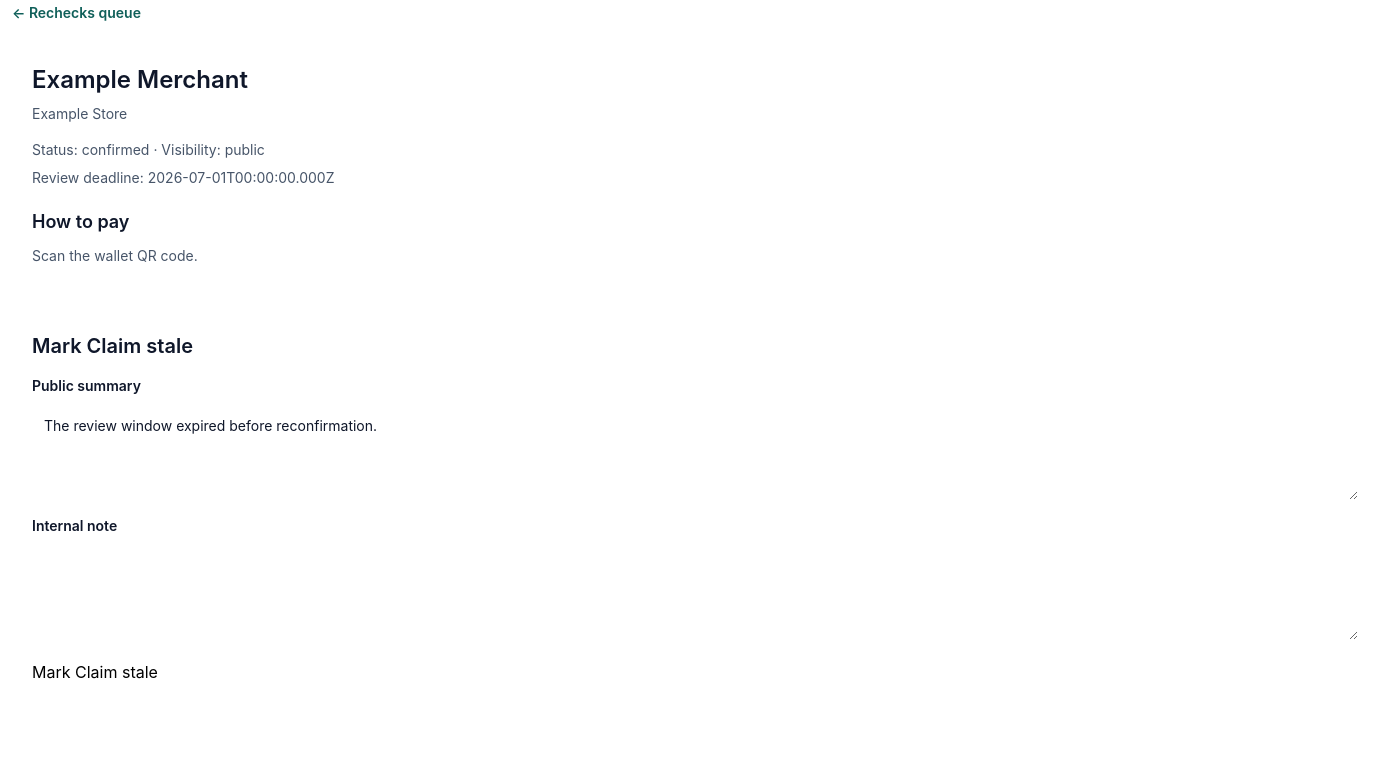
Test case: Rechecks components › replaces the submitting message when the stale-transition POST loses connectivity
The width and height of the screenshot is (1378, 768).
Click the button "Mark Claim stale" at [95, 672], box [32,660,158,684]
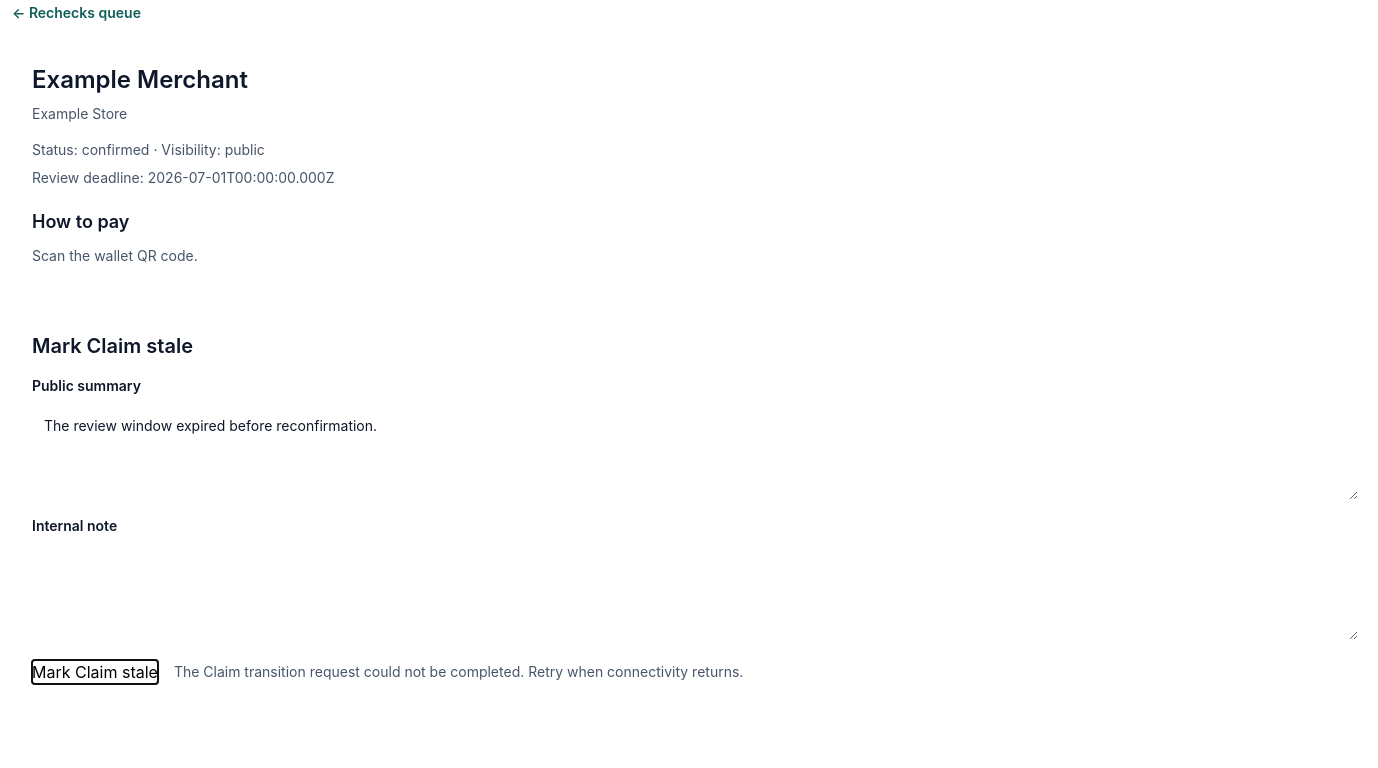
Expected: the text "The Claim transition request could not be completed. Retry when connectivity returns." is shown, [174,663,743,680]
